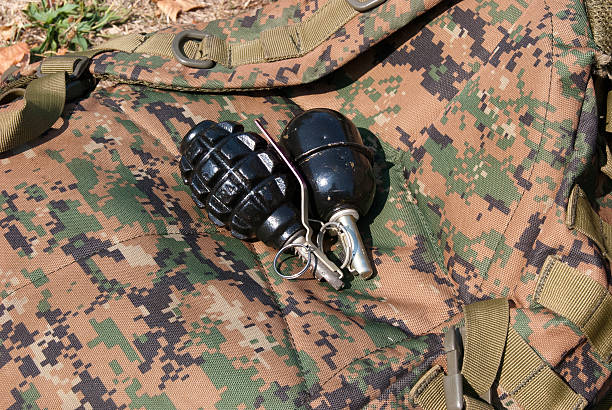e1: (280, 112, 381, 279)
